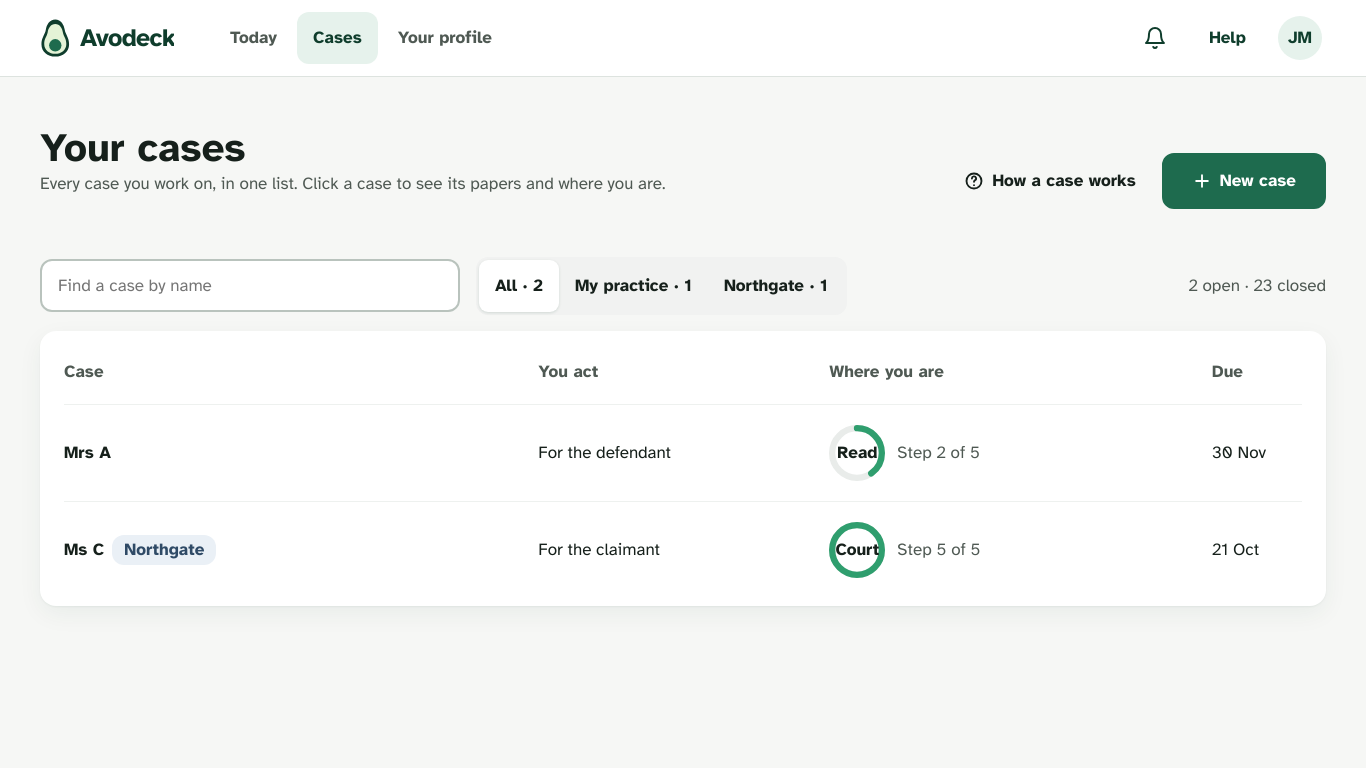
the organisation filter narrows the rows
What coordinates should you click on to do the following:
click the button "My practice · 1"
I would click on:
 (633, 286)
Its box is [559,260,708,312].
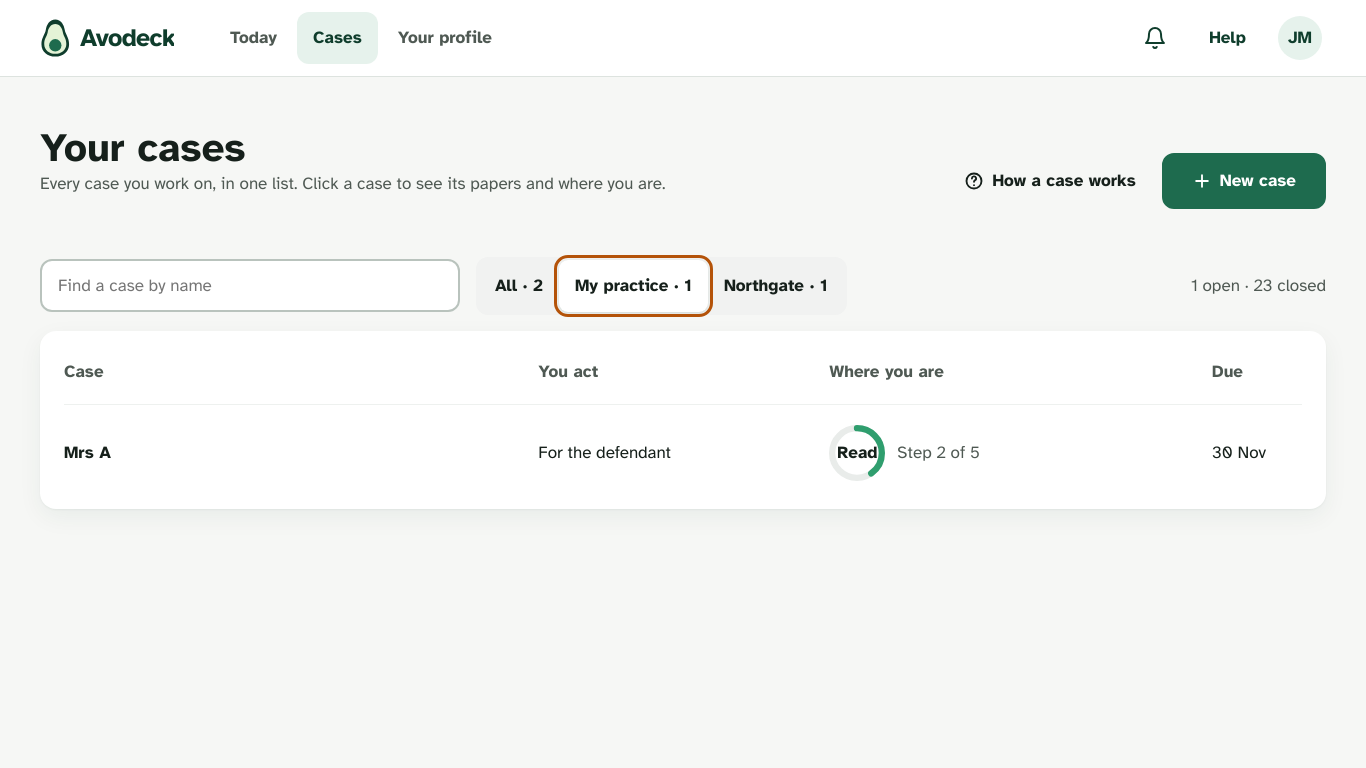
Expected: the link "Mrs A For the defendant Read Step 2 of 5 30 Nov" is shown, [64,404,1302,501]
Expected: the link "Ms C" is gone
Expected: the text "1 open · 23 closed" is shown, [1191,273,1326,298]
